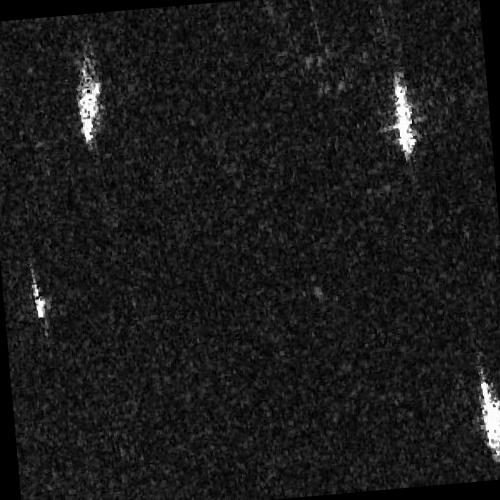ship: (393, 72, 417, 161), (476, 374, 500, 462), (76, 62, 100, 147), (30, 269, 46, 322)
